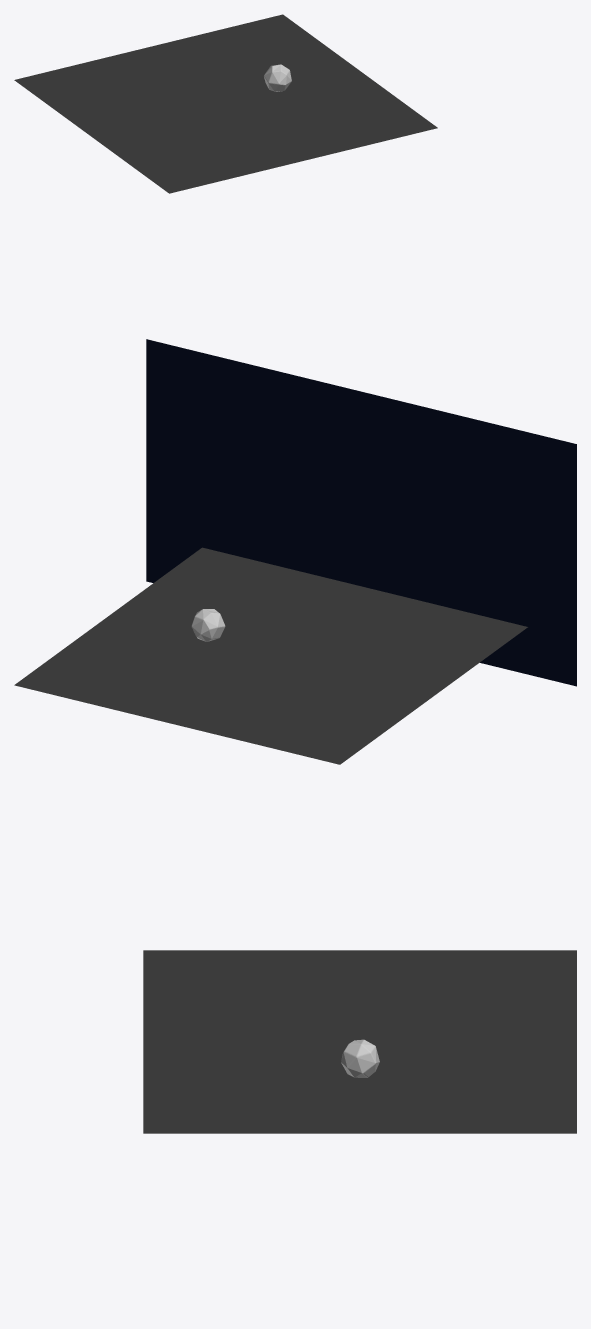
Rendered from 04_Glass.gltf.
3 renders of one model, top to bottom at view 1: azimuth 30°, elevation 25°; view 2: azimuth 150°, elevation 25°; view 3: azimuth 270°, elevation 25°, orthographic. The views are drawn at different scales.
Visible parts, largest first — view 1: pPlane2, A; view 2: pPlane1, pPlane2, A; view 3: pPlane2, A.
Boxes of the visible parts, x1=… form: pPlane2: x1=14, y1=14, x2=437, y2=193; A: x1=264, y1=64, x2=291, y2=91; pPlane1: x1=146, y1=339, x2=576, y2=686; pPlane2: x1=14, y1=547, x2=527, y2=764; A: x1=191, y1=609, x2=225, y2=641; pPlane2: x1=143, y1=950, x2=576, y2=1133; A: x1=341, y1=1039, x2=379, y2=1077.
Size of the model in its own units: 46.3 by 24.48 by 44.74.
